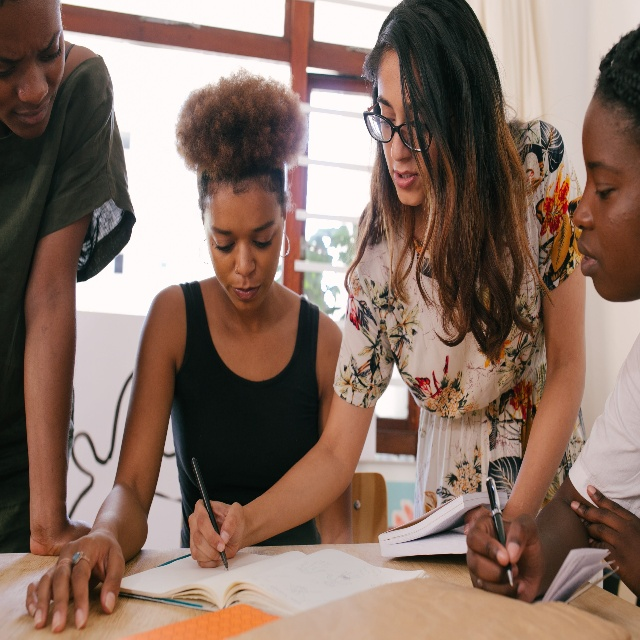Gafas: (363, 101, 433, 152)
Sin_guantes: (25, 528, 126, 632), (570, 484, 640, 597), (465, 514, 547, 603), (188, 498, 245, 569), (463, 504, 492, 535)
